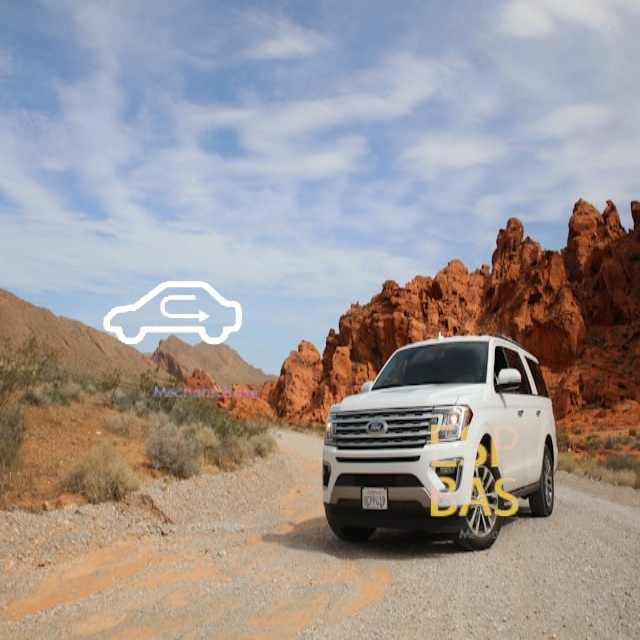symbol: (81, 223, 265, 407), (401, 397, 550, 546)
